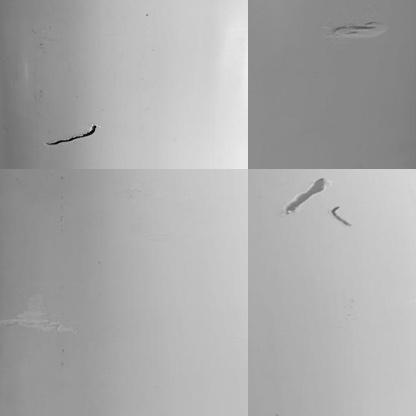fengxi: (46, 124, 102, 146), (328, 204, 359, 228)
kongdong: (283, 177, 330, 212)
sunshang: (328, 16, 388, 41)
